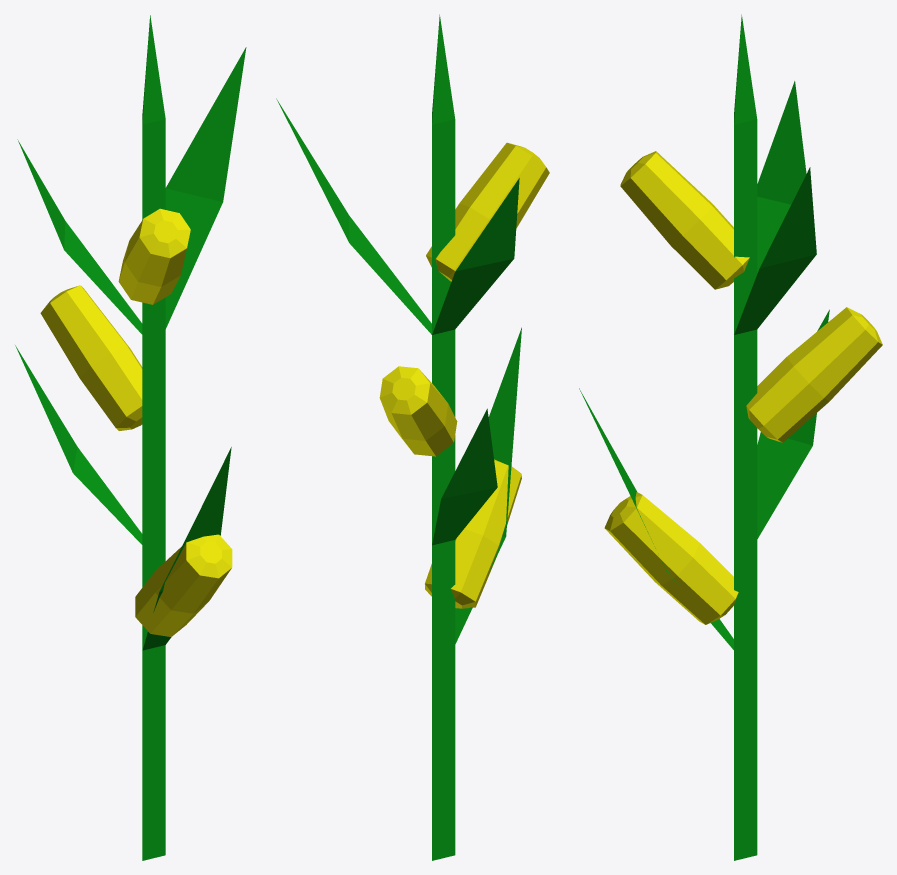
Rendered from Mais.fbx.
3 views of the same model, side by side, from view 1: azimuth 30°, elevation 25°; view 2: azimuth 150°, elevation 25°; view 3: azimuth 270°, elevation 25° (orthographic).
Visible parts, largest first — view 1: Cylinder; view 2: Cylinder; view 3: Cylinder.
Part boxes in pixels (<box>): Cylinder: <box>15,15,246,860</box>; Cylinder: <box>276,14,549,860</box>; Cylinder: <box>579,14,882,860</box>.
Bounding box in the file's own units: 177 × 600 × 197.
